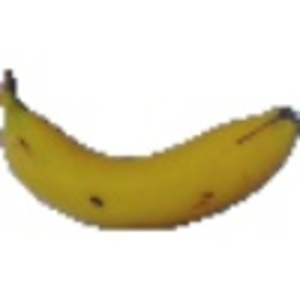banana: (1, 66, 297, 234)
